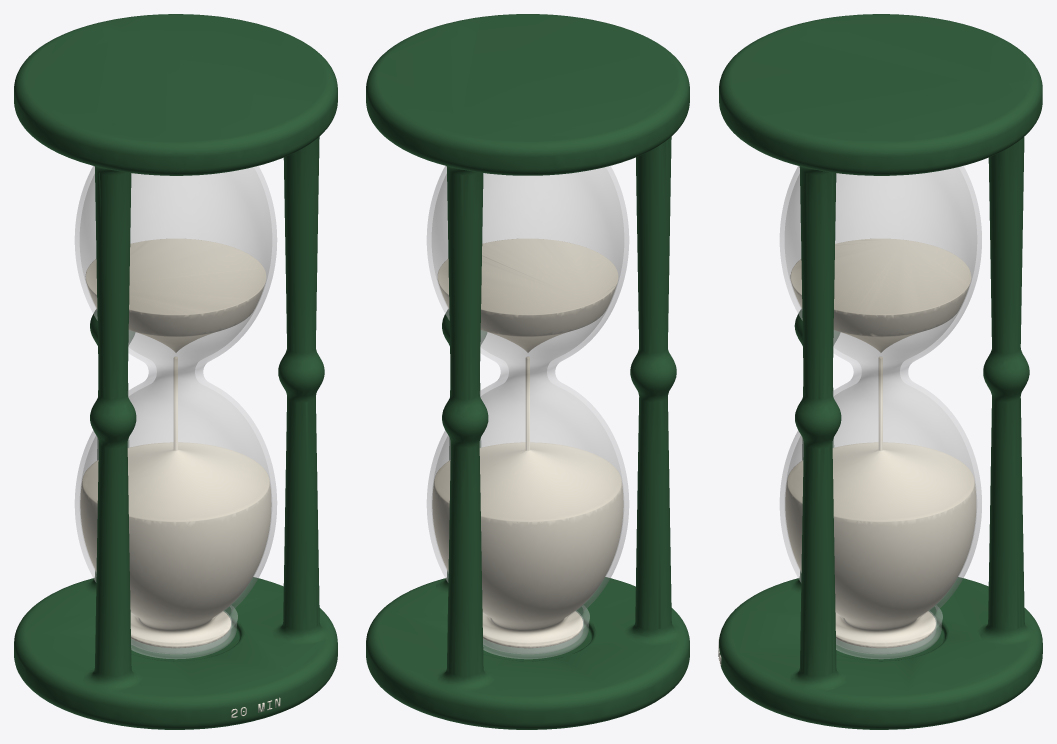
Rendered from screen-time.glb.
The picture shows the model from 3 angles, left to right: view 1: azimuth 30°, elevation 25°; view 2: azimuth 150°, elevation 25°; view 3: azimuth 270°, elevation 25°; orthographic projection.
Visible parts, largest first — view 1: st-frame, st-glass, st-sand; view 2: st-frame, st-glass, st-sand; view 3: st-frame, st-glass, st-sand.
Part boxes in pixels (bbox=[...]): st-frame: bbox=[14, 14, 337, 729]; st-glass: bbox=[75, 166, 276, 658]; st-sand: bbox=[80, 238, 271, 648]; st-frame: bbox=[366, 14, 689, 729]; st-glass: bbox=[427, 166, 628, 658]; st-sand: bbox=[432, 238, 623, 648]; st-frame: bbox=[719, 14, 1042, 729]; st-glass: bbox=[780, 166, 981, 658]; st-sand: bbox=[785, 238, 976, 648].
Bounding box in the file's own units: 0.08 × 0.1601 × 0.0802.
